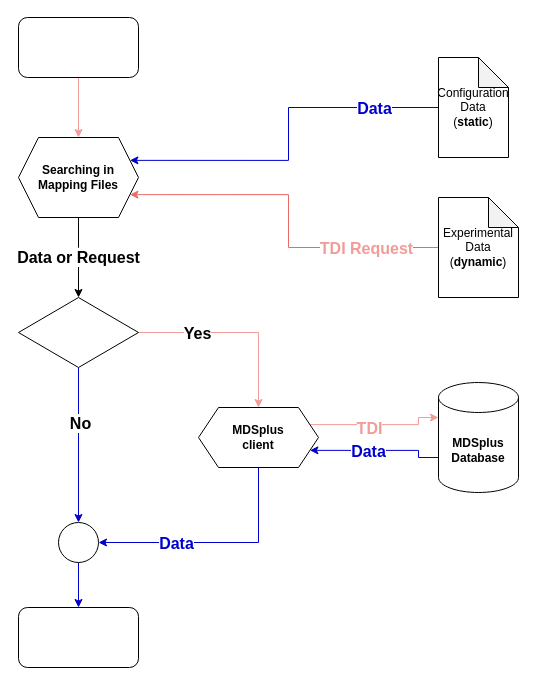
Image size: 536x685. Some labels were removed from this diagram. The box of each missing label's shape, as (x1, y1, x2, y2) in pixels:
is Request ?: (18, 296, 138, 368)
Original Request (IDS path): (18, 16, 138, 78)
Return result: (18, 606, 138, 668)
